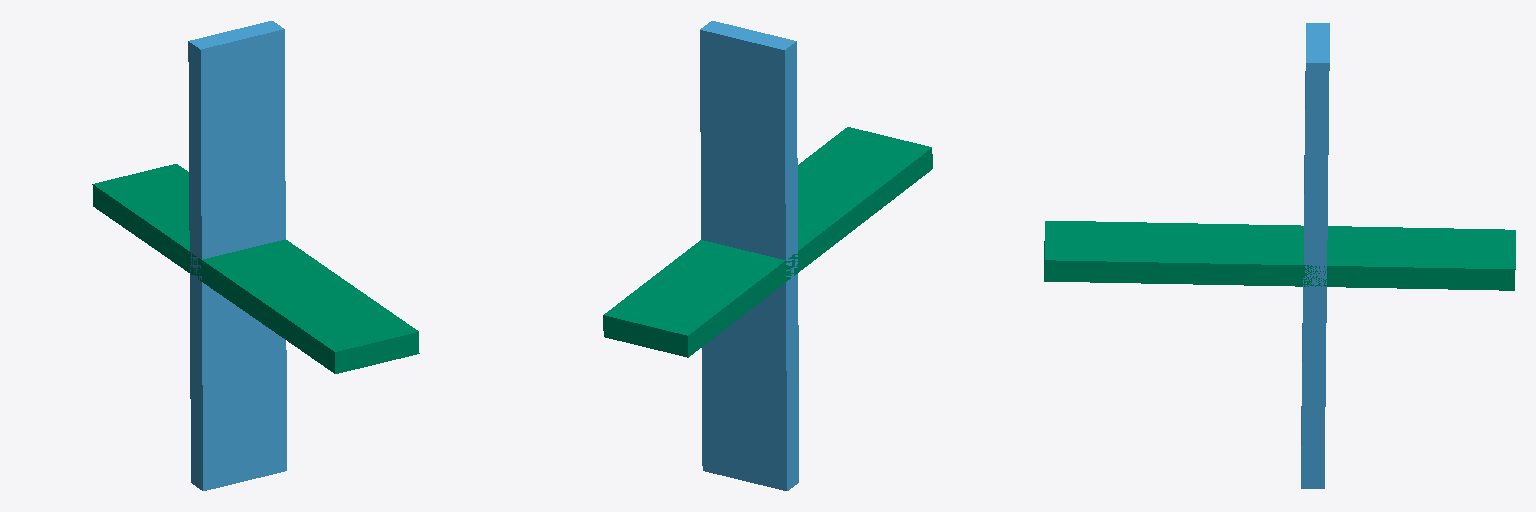
The robot description file, URDF, robot "Robot_Arm":
<?xml version="1.0"?>

<robot name = "Robot_Arm">

<!-- base link -->
<link name = "base_link"/>
<!-- link 1-->
<link name = "link1">
    <visual>
        <geometry>
            <box size="0.2 1 0.05"/>
        </geometry>
        <origin xyz="0 0 0" rpy="0 0 0"/>
    </visual>

    <collision>
        <geometry>
            <box size="0.2 1 0.05"/>
        </geometry>
        <origin xyz="0 0 0" rpy="0 0 0"/>
    </collision>

    <inertial>
        <origin xyz="0 0 0" rpy="0 0 0"/>
        <mass value="1"/>
        <inertia ixx="0.001" ixy="0" ixz="0" iyy="0.001" iyz="0" izz="0.001"/>
    </inertial>
</link>

<!-- joint1 -->
<joint name="joint1" type="prismatic">
    <parent link="base_link"/>
    <child link="link1"/>
    <origin xyz="0 0 0.075" rpy="1.56 0 0"/>
    <axis xyz="0 1 0"/>
    <limit lower="-0.4" upper="0.4" effort="100" velocity="1"/> 
</joint>

<!-- link 2-->
<link name = "link2">
    <visual>
        <geometry>
            <box size="0.2 1 0.05"/>
        </geometry>
        <origin xyz="0 0 0" rpy="0 0 0"/>
    </visual>

    <collision>
        <geometry>
            <box size="0.2 1 0.05"/>
        </geometry>
        <origin xyz="0 0 0" rpy="0 0 0"/>
    </collision>

    <inertial>
        <origin xyz="0 0 0" rpy="0 0 0"/>
        <mass value="1"/>
        <inertia ixx="0.001" ixy="0" ixz="0" iyy="0.001" iyz="0" izz="0.001"/>
    </inertial>
</link>

<!-- joint2 -->
<joint name="joint2" type="prismatic">
    <parent link="link1"/>
    <child link="link2"/>
    <origin xyz="0 0 0.075" rpy="1.56 0 0"/>
    <axis xyz="0 1 0"/>
    <limit lower="-0.4" upper="0.4" effort="100" velocity="1"/> 
</joint>

</robot>

--- Facts derived from the render (not from the file) ---
The picture shows the robot from 3 angles, left to right: view 1: azimuth 30°, elevation 25°; view 2: azimuth 150°, elevation 25°; view 3: azimuth 270°, elevation 25°; orthographic projection.
Robot: Robot_Arm — 3 links, 2 joints (2 prismatic); root link base_link; default pose: every joint at zero.
Links seen in each view (by area): view 1: link1, link2; view 2: link1, link2; view 3: link2, link1.
Boxes of the visible links, x1=… form: link1: x1=188, y1=21, x2=286, y2=490; link2: x1=92, y1=164, x2=419, y2=373; link1: x1=700, y1=21, x2=798, y2=490; link2: x1=603, y1=127, x2=932, y2=357; link2: x1=1044, y1=221, x2=1515, y2=290; link1: x1=1301, y1=23, x2=1329, y2=488.
Bounding box of the posed robot: 0.2 × 1 × 1 m (x, y, z).
Geometry: primitives only (box / cylinder / sphere), no mesh files.